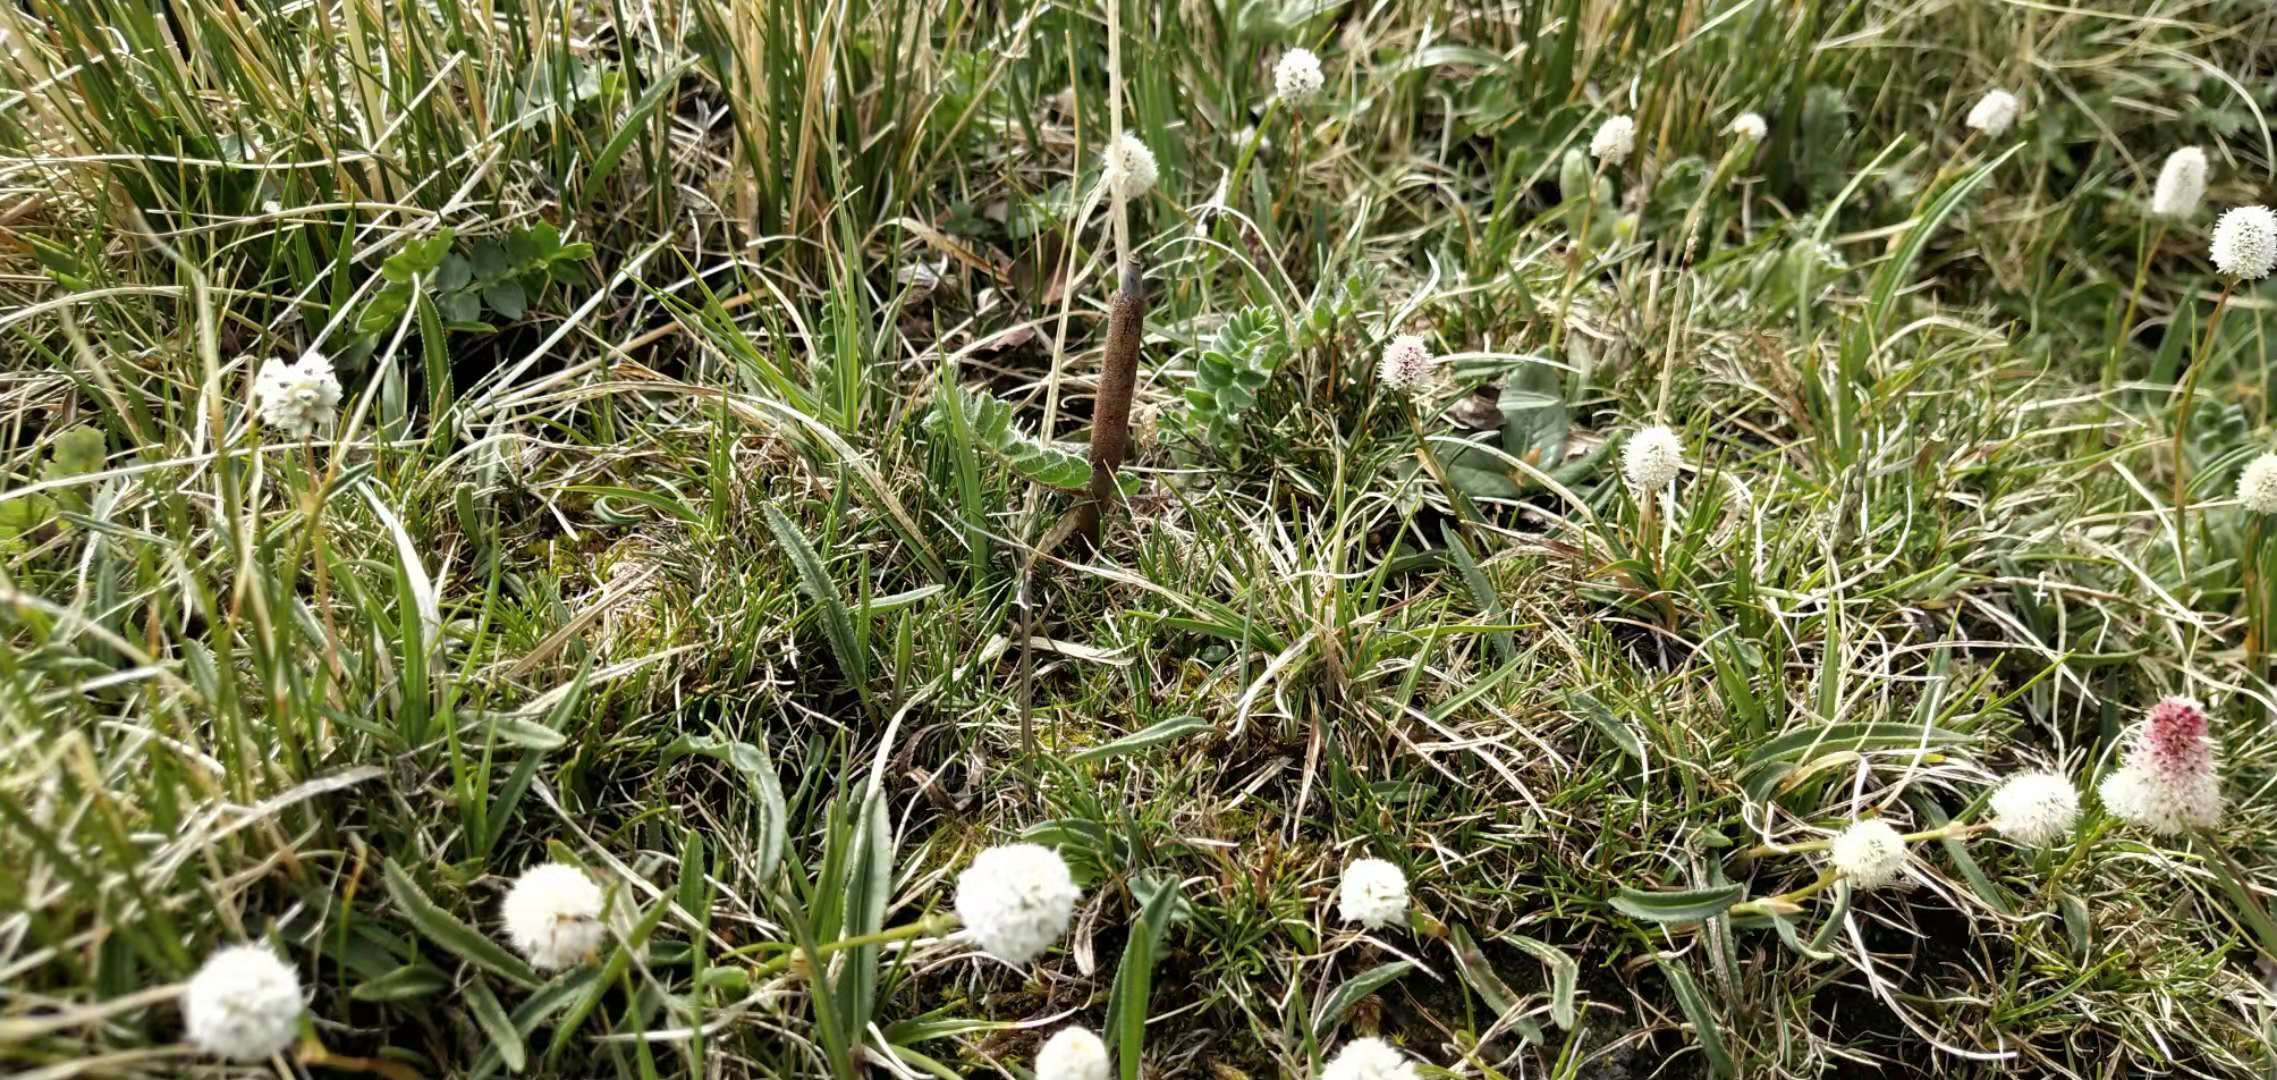w: (1091, 253, 1146, 504)
